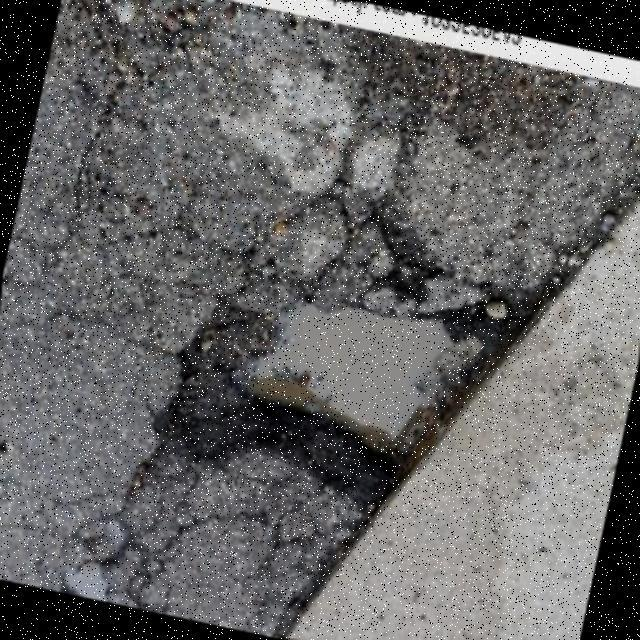Pothole: (152, 287, 559, 504)
